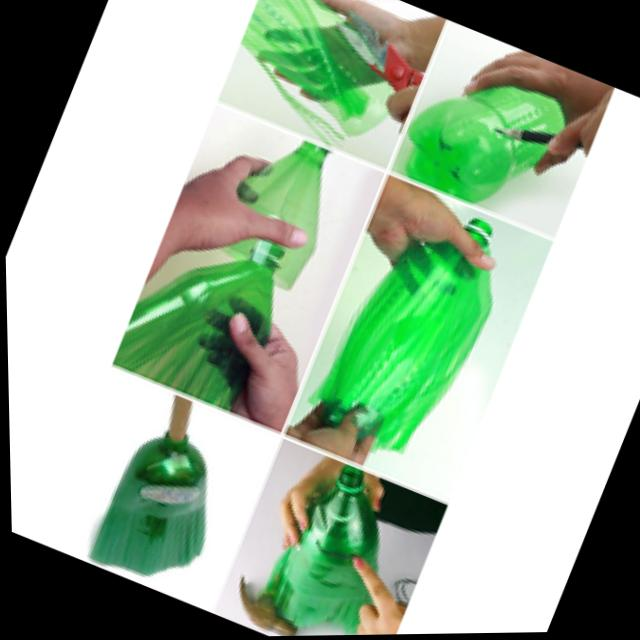plastic_soda_bottles: (293, 182, 528, 471), (106, 205, 302, 421), (391, 46, 577, 225), (252, 451, 410, 637), (201, 122, 353, 296)
